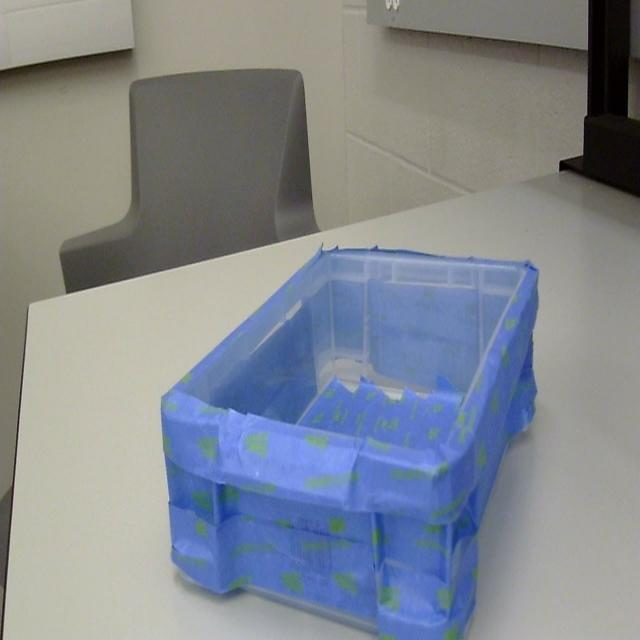bucket: (160, 249, 540, 640)
